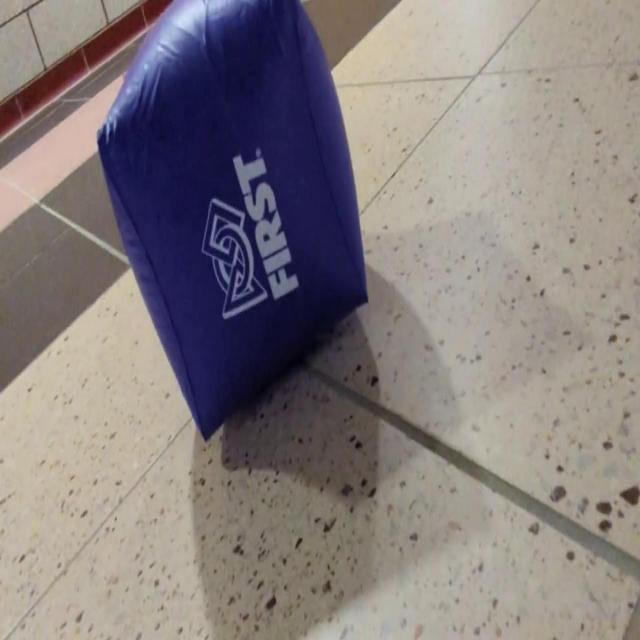frc_cube: (95, 0, 368, 444)
